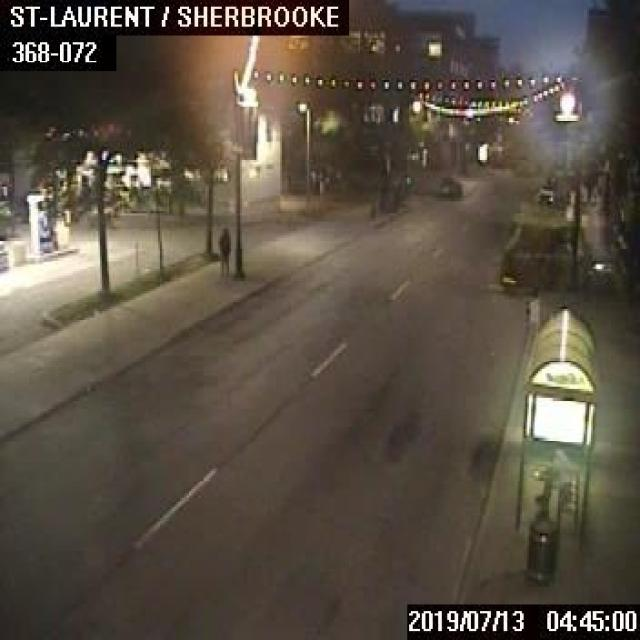pedestrian: (533, 444, 569, 514), (216, 227, 231, 271)
vehicle: (434, 176, 462, 196), (536, 182, 553, 200)
